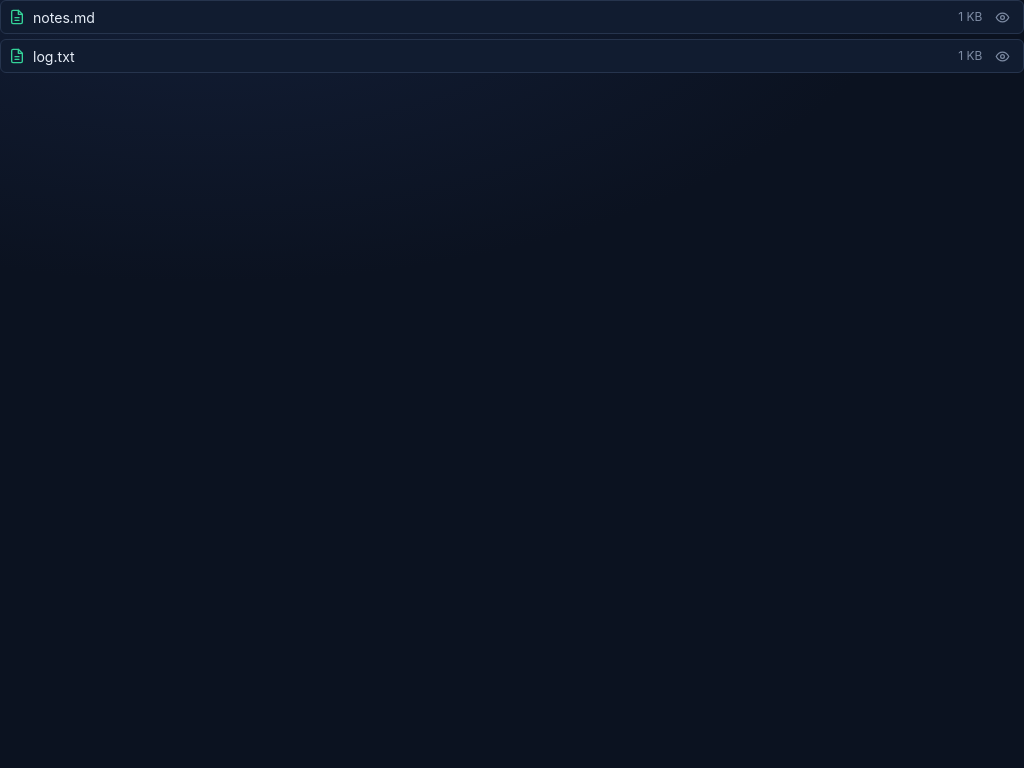
Test case: KBR-95: markdown / txt preview › markdown renders as rich GFM; txt renders preformatted
Click the button named "Preview notes.md".
click(1003, 17)  # box x1=990 y1=7 x2=1015 y2=27
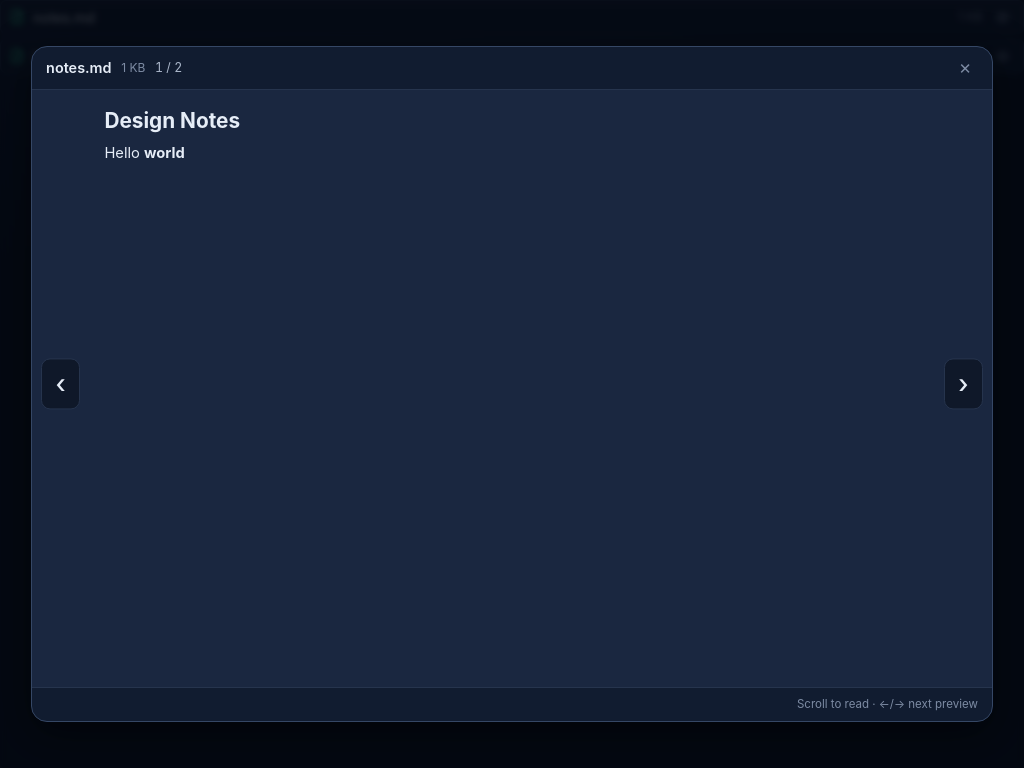
Now the heading "Design Notes" is shown, box x1=104 y1=108 x2=240 y2=133
Now the text "world" is shown, box x1=144 y1=144 x2=185 y2=162
Now the text "Scroll to read · ←/→ next preview" is shown, box x1=797 y1=696 x2=978 y2=713
# Cycle to the txt file — preformatted, raw text.
Click the button named "Next preview".
click(964, 384)  # box x1=944 y1=358 x2=983 y2=410
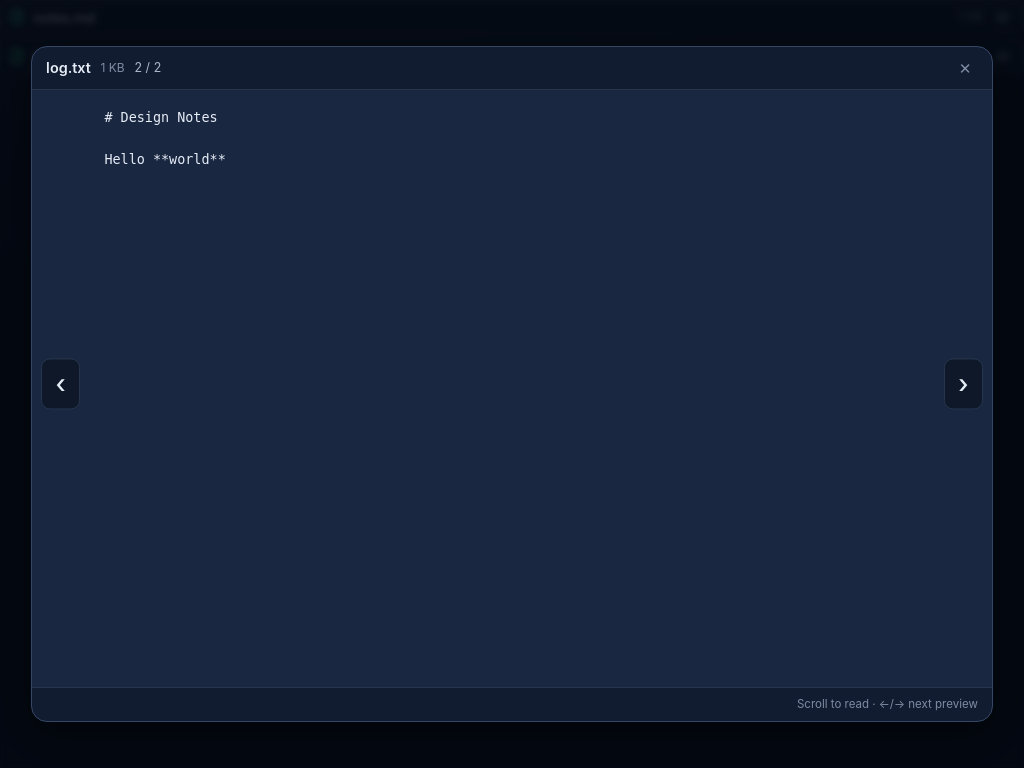
Now the dialog named "Preview of log.txt" is shown
Now the text "# Design Notes Hello **world**" is shown, box x1=104 y1=110 x2=226 y2=167
